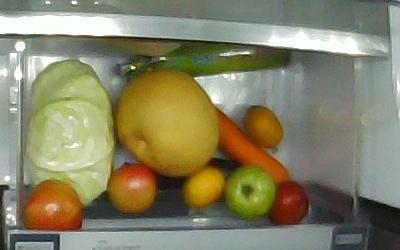cabbage: (28, 58, 114, 207)
carrot: (217, 102, 293, 184)
pear: (116, 70, 220, 175)
prune: (21, 181, 83, 230), (109, 162, 157, 213)
tangerine: (241, 104, 288, 148), (182, 166, 226, 208)
tomato: (226, 167, 277, 221), (271, 180, 309, 223)
zucchini: (115, 42, 291, 78)
